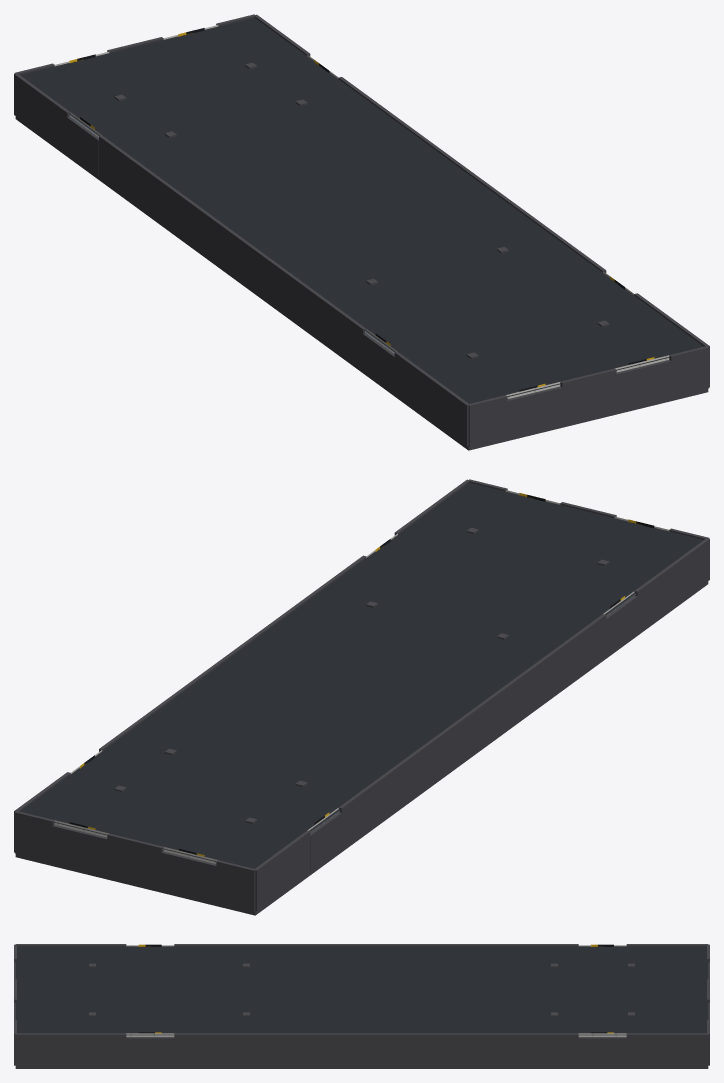
The model's file is wl80-r3-game-metro-assets-concourse_longxiangqiao.glb.
3 views of the same model, one above another, from view 1: azimuth 30°, elevation 25°; view 2: azimuth 150°, elevation 25°; view 3: azimuth 270°, elevation 25° (orthographic). The views are drawn at different scales.
Visible parts, largest first — view 1: co_hall, co_col, cap_2_col, cap_3_col, cap_6_col, cap_4_col; view 2: co_hall, co_col, cap_0_col, cap_1_col, cap_4_col, cap_6_col; view 3: co_hall, co_col, cap_5_col, cap_7_col.
Boxes of the visible parts, box(x1,y1,x2,y2) form: co_hall: box(20, 17, 703, 403); co_col: box(14, 14, 709, 450); cap_2_col: box(507, 386, 562, 437); cap_3_col: box(616, 360, 671, 410); cap_6_col: box(363, 333, 394, 393); cap_4_col: box(67, 117, 98, 176); co_hall: box(20, 482, 703, 868); co_col: box(14, 479, 709, 915); cap_0_col: box(161, 851, 216, 902); cap_1_col: box(52, 825, 107, 875); cap_4_col: box(310, 812, 341, 872); cap_6_col: box(606, 596, 637, 655); co_hall: box(15, 945, 708, 1036); co_col: box(14, 944, 709, 1068); cap_5_col: box(578, 1037, 626, 1065); cap_7_col: box(126, 1037, 174, 1065).
Bounding box in the file's own units: 22.32 × 4.1 × 72.32.
25 materials, 10 textured.
